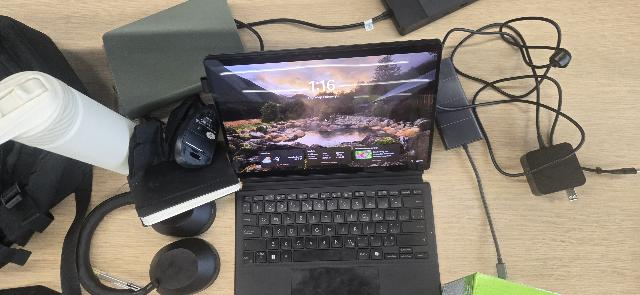Keyboard: (236, 185, 434, 266)
